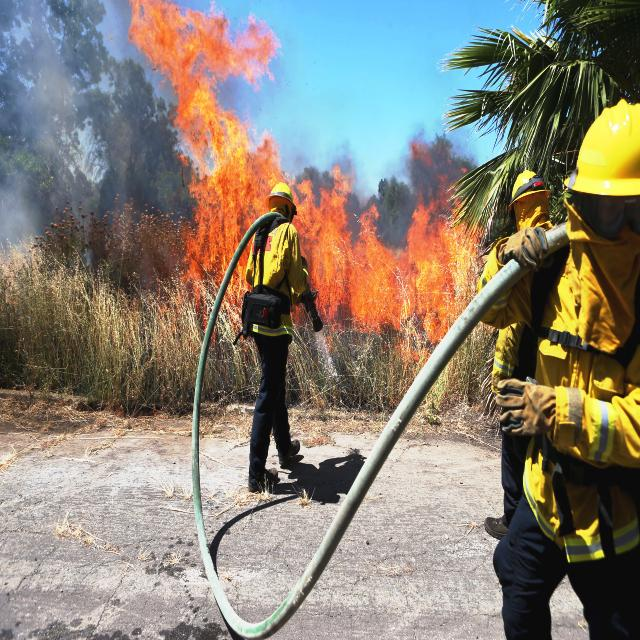api: (121, 1, 494, 339)
asap: (1, 1, 117, 281)
